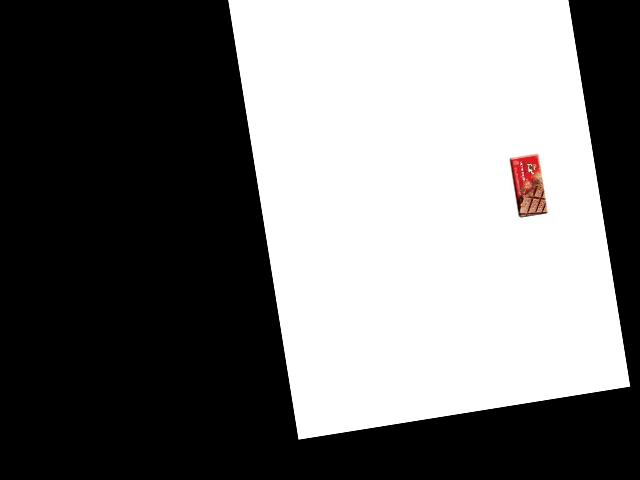chocolate: (508, 152, 549, 219)
